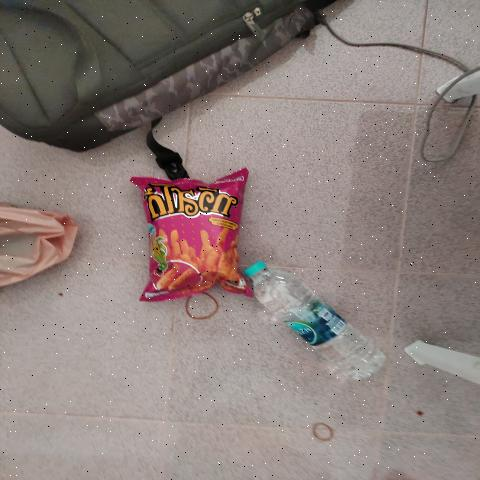crystal: (260, 276, 357, 366)
twisco: (152, 186, 226, 294)
